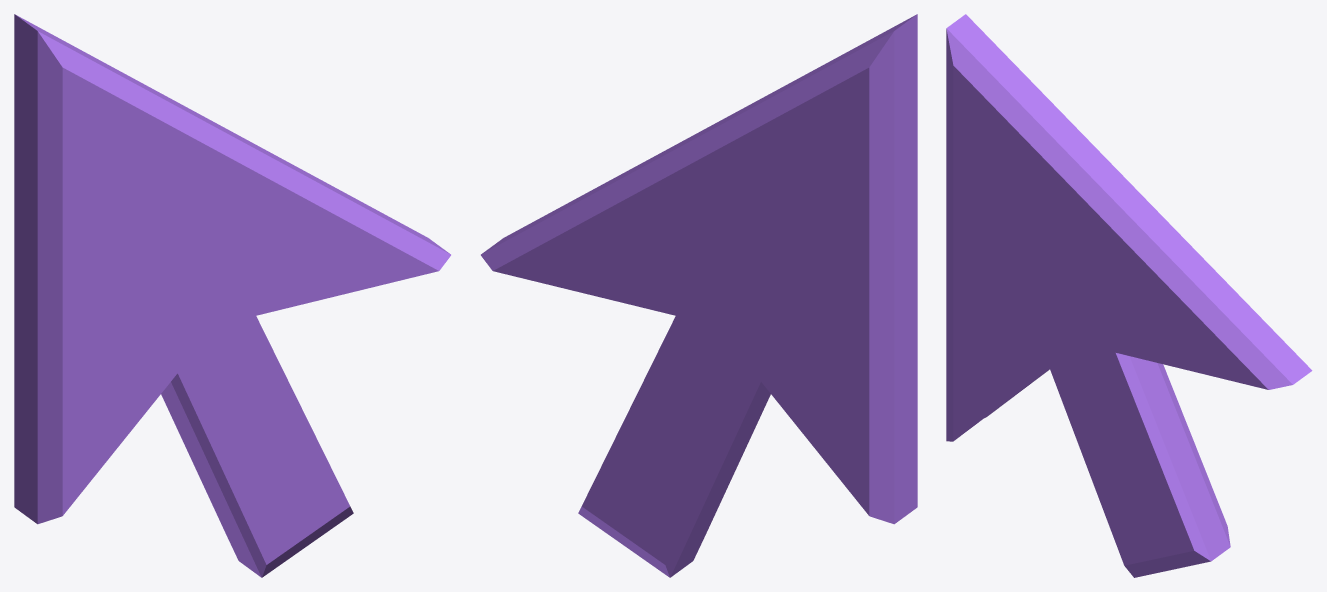
Rendered from cursor-violet.glb.
3 renders of one model, left to right at view 1: azimuth 30°, elevation 25°; view 2: azimuth 150°, elevation 25°; view 3: azimuth 330°, elevation 25°, orthographic. The views are drawn at different scales.
Visible parts, largest first — view 1: Cursor tip origin; view 2: Cursor tip origin; view 3: Cursor tip origin.
Boxes of the visible parts, x1,y1,x2,y2 form: Cursor tip origin: (14, 14, 450, 577); Cursor tip origin: (481, 14, 917, 577); Cursor tip origin: (946, 14, 1312, 577).
Bounding box in the file's own units: 0.72 × 1 × 0.12.
